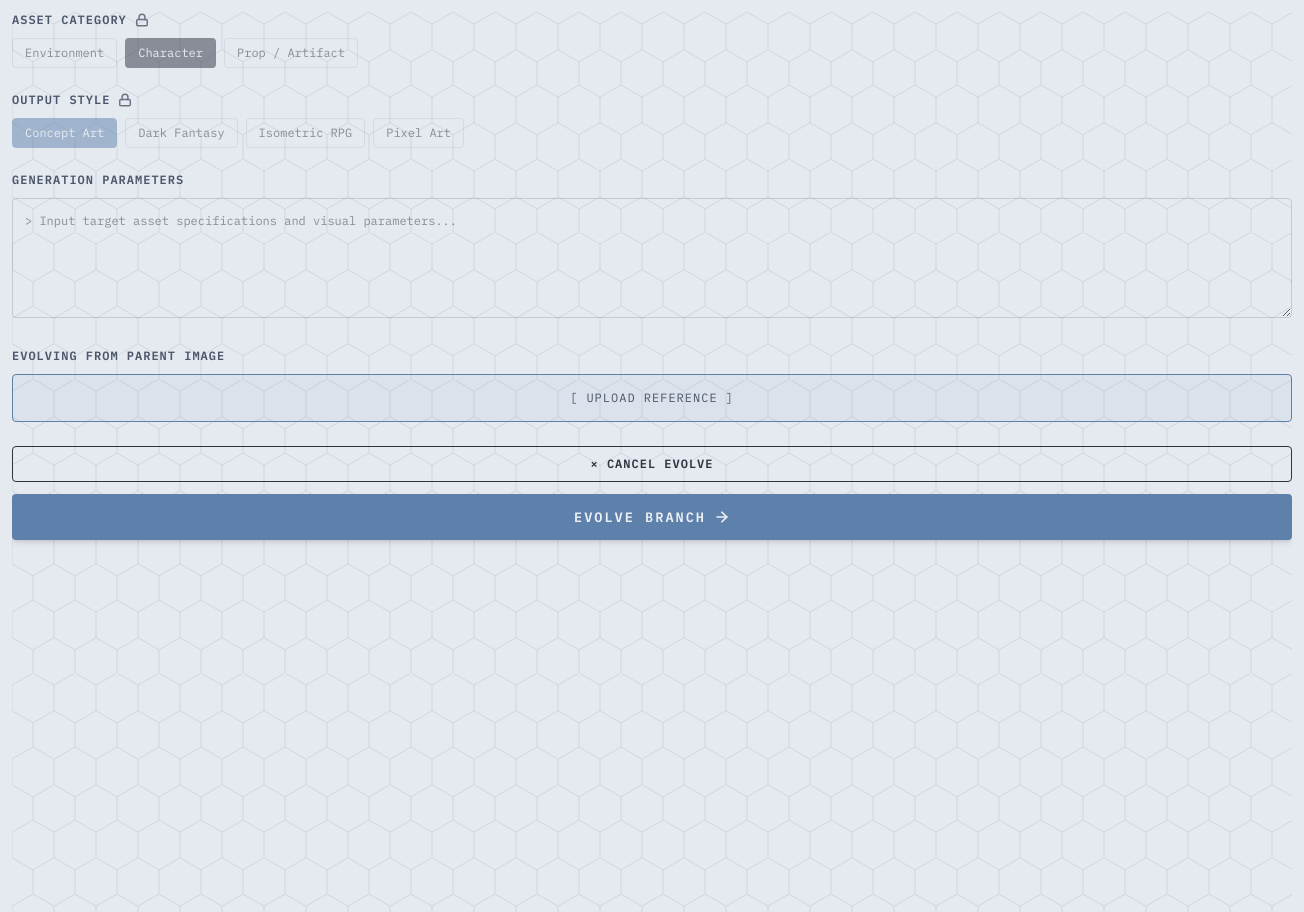
Test: GeneratorForm › should handle Evolve Mode cancellation
What coordinates should you click on to do the following:
click the button "× CANCEL EVOLVE"
I would click on:
 (652, 464)
Its box is [12,446,1292,482].
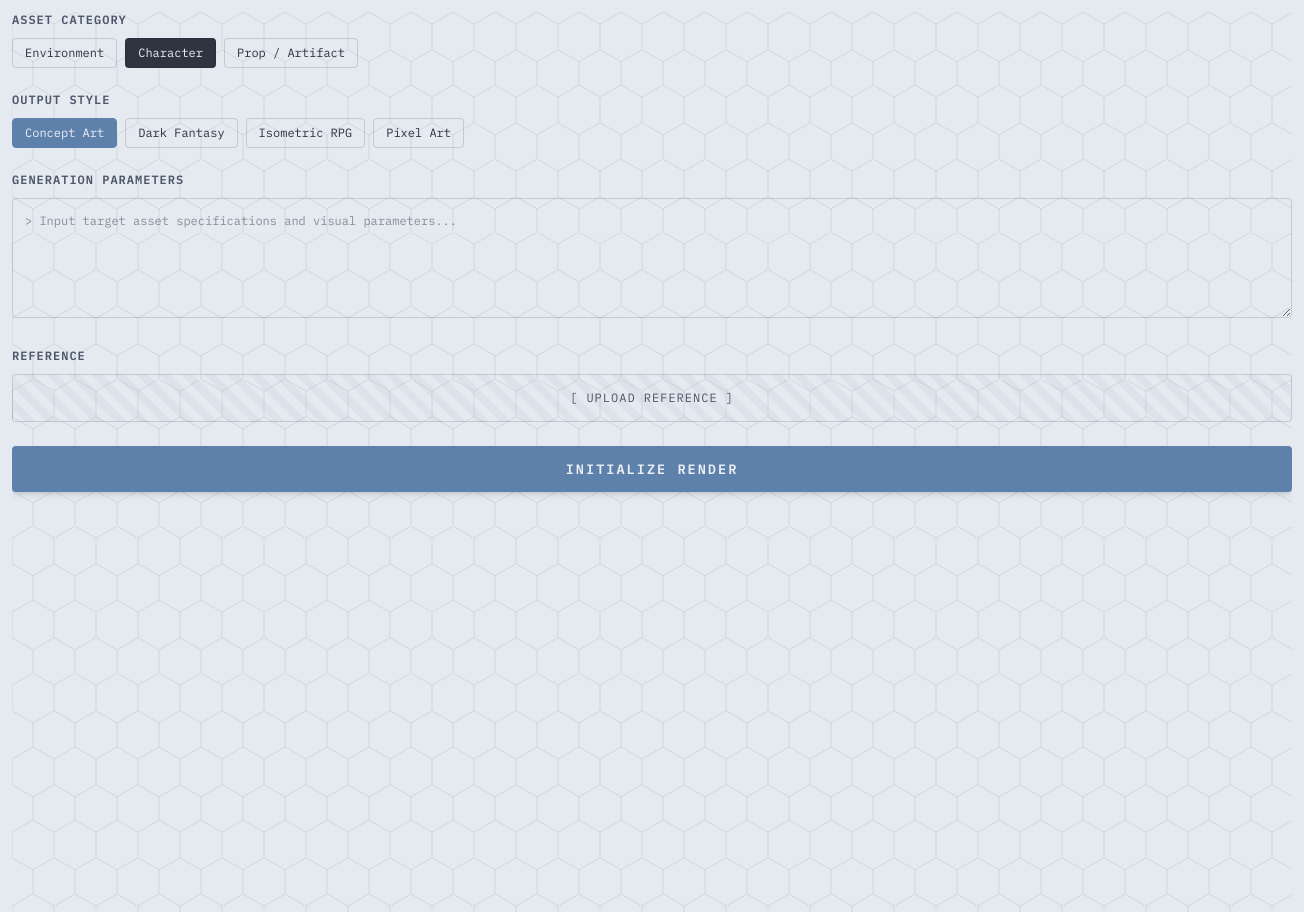
Result: the button "CANCEL EVOLVE" is gone
